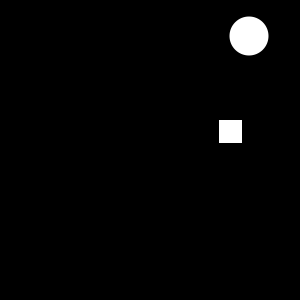circle: (219, 120, 242, 143)
rectangle: (229, 16, 268, 56)
